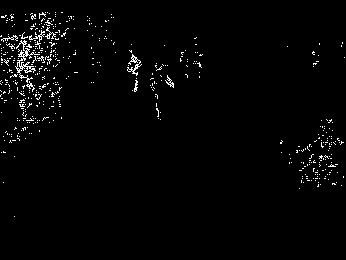person: (150, 63, 175, 119)
